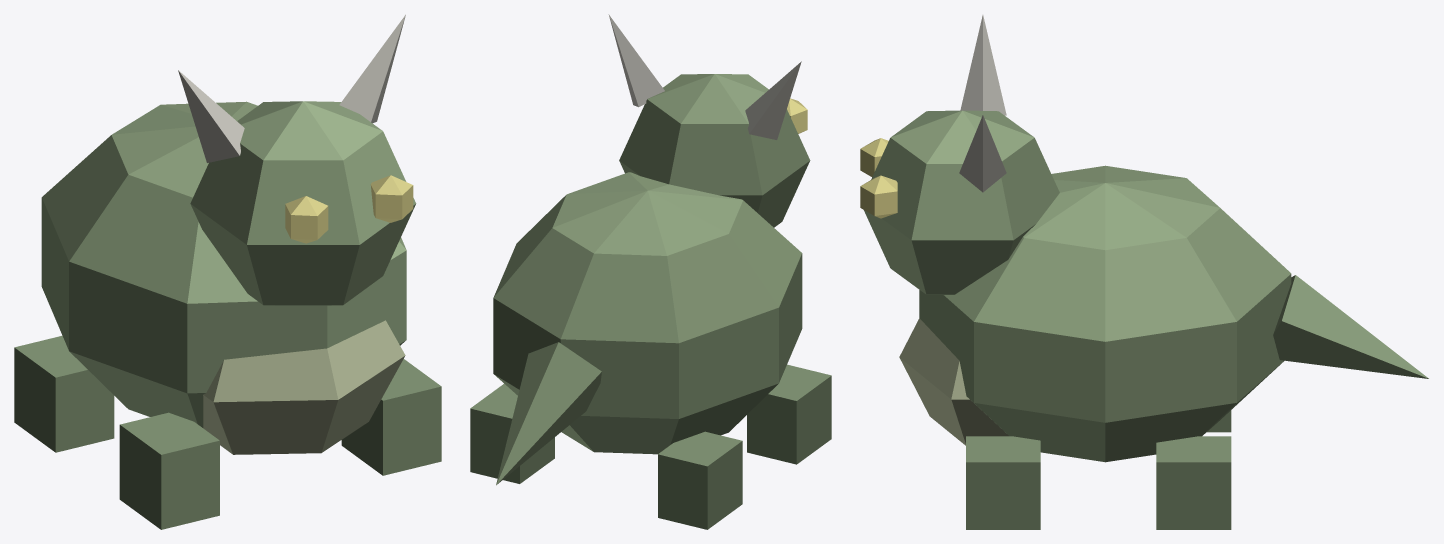
The model's file is monster_small.glb.
3 renders of one model, left to right at view 1: azimuth 30°, elevation 25°; view 2: azimuth 150°, elevation 25°; view 3: azimuth 270°, elevation 25°, orthographic. The views are drawn at different scales.
Bounding box in the file's own units: 0.9511 × 1.31 × 1.67.
